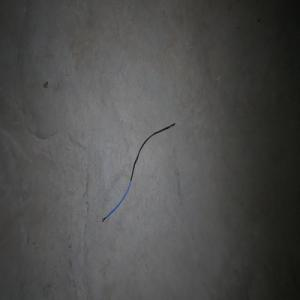Wire: (101, 122, 175, 222)
